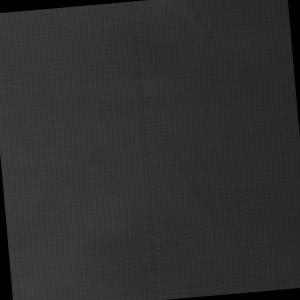Wrinkle: (151, 1, 260, 104)
